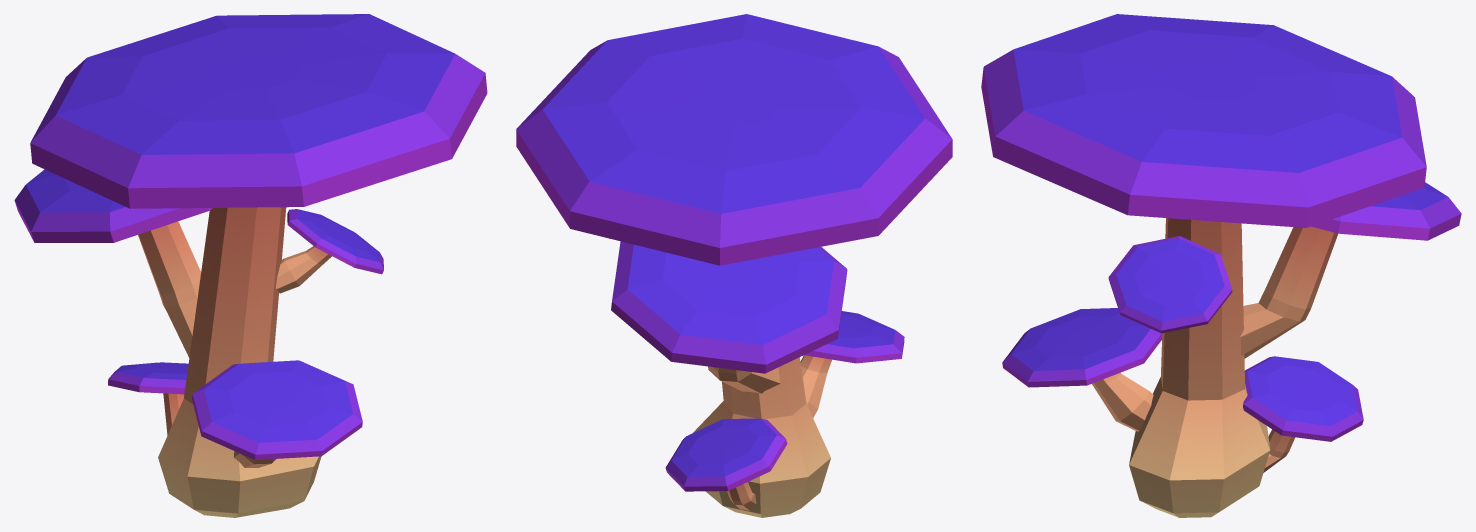
Rendered from Garden_BigShroom02.fbx.
3 views of the same model, side by side, from view 1: azimuth 30°, elevation 25°; view 2: azimuth 150°, elevation 25°; view 3: azimuth 270°, elevation 25° (orthographic). The views are drawn at different scales.
Visible parts, largest first — view 1: Cylinder.299; view 2: Cylinder.299; view 3: Cylinder.299.
Part boxes in pixels (x1,y1,x2,y2): Cylinder.299: (14,14,487,517); Cylinder.299: (516,14,952,517); Cylinder.299: (981,14,1461,517).
Size of the model in its own units: 415 by 447 by 447.
